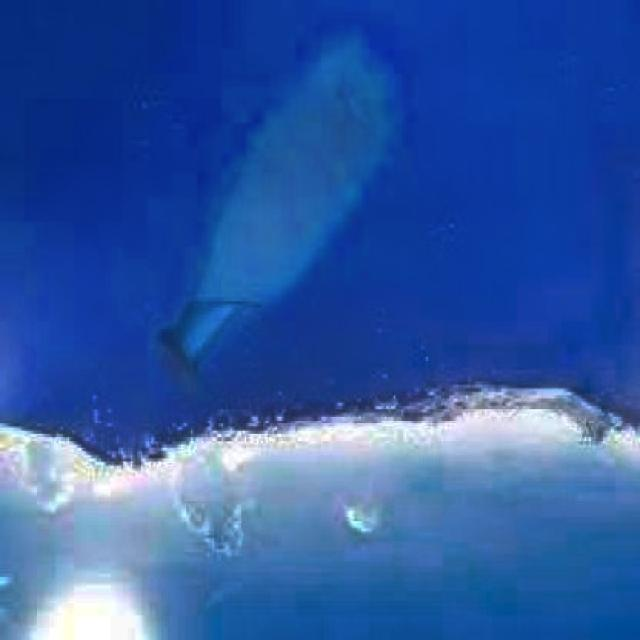gbottle: (148, 18, 406, 394)
